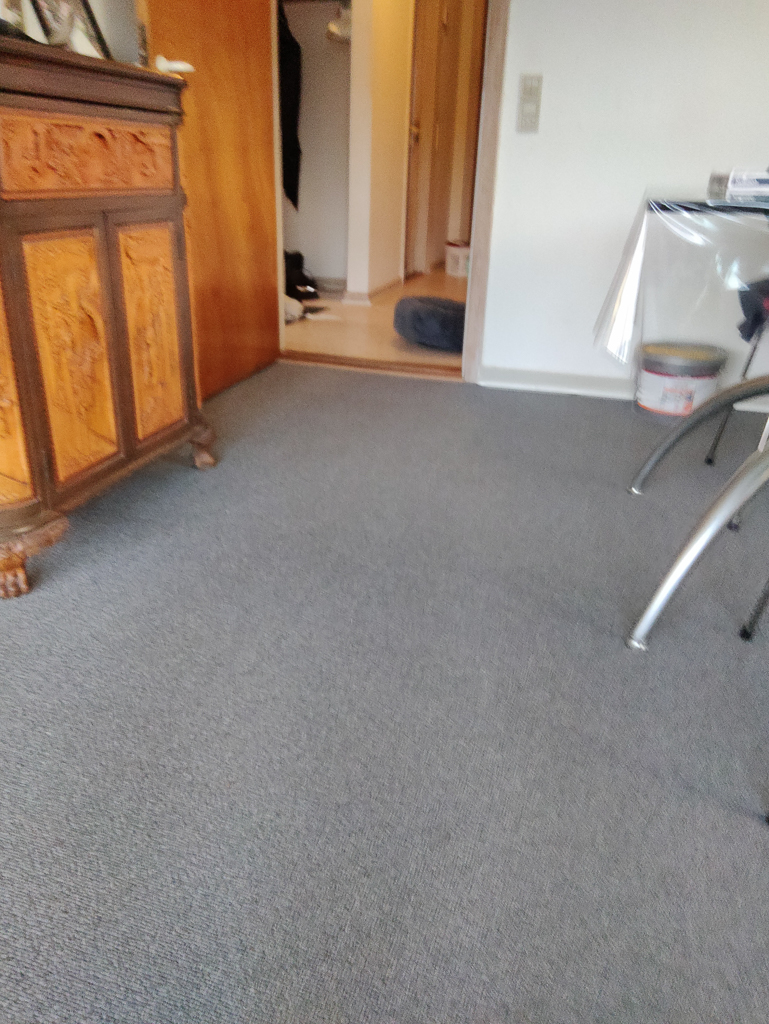Dog: (282, 244, 348, 326)
